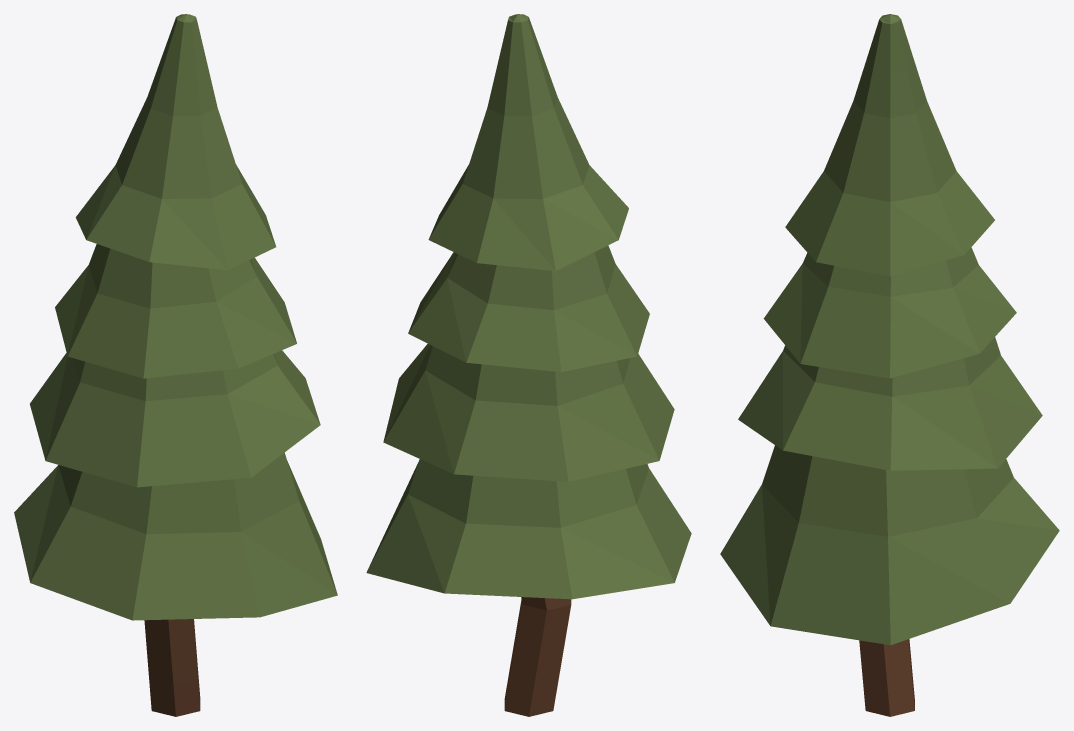
Rendered from winterTree2.glb.
3 views of the same model, side by side, from view 1: azimuth 30°, elevation 25°; view 2: azimuth 150°, elevation 25°; view 3: azimuth 270°, elevation 25° (orthographic).
Visible parts, largest first — view 1: Tree_temp_climate_018; view 2: Tree_temp_climate_018; view 3: Tree_temp_climate_018.
Boxes of the visible parts, bbox=[...] form: Tree_temp_climate_018: bbox=[14, 14, 337, 716]; Tree_temp_climate_018: bbox=[366, 14, 691, 716]; Tree_temp_climate_018: bbox=[720, 14, 1059, 716].
Size of the model in its own units: 2.42 by 5.48 by 2.42.
Materials: 1 (1 with a texture image).
